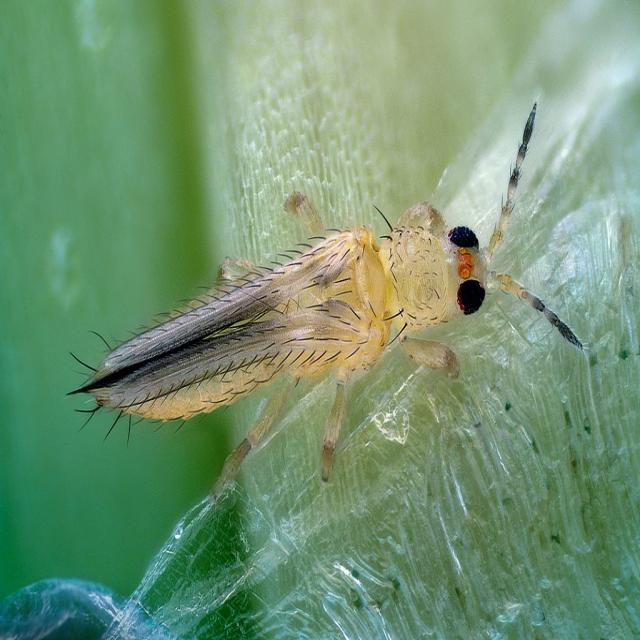Thrip-Adult-: (59, 90, 572, 477)
